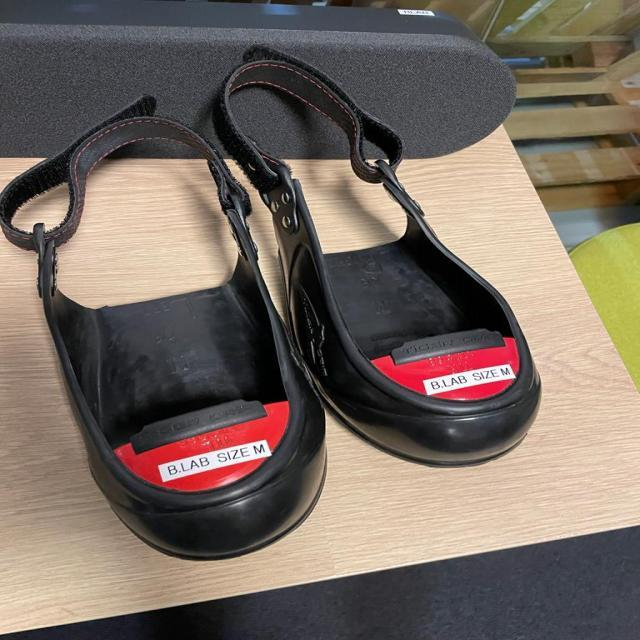shoes: (0, 102, 342, 566), (208, 49, 549, 458)
